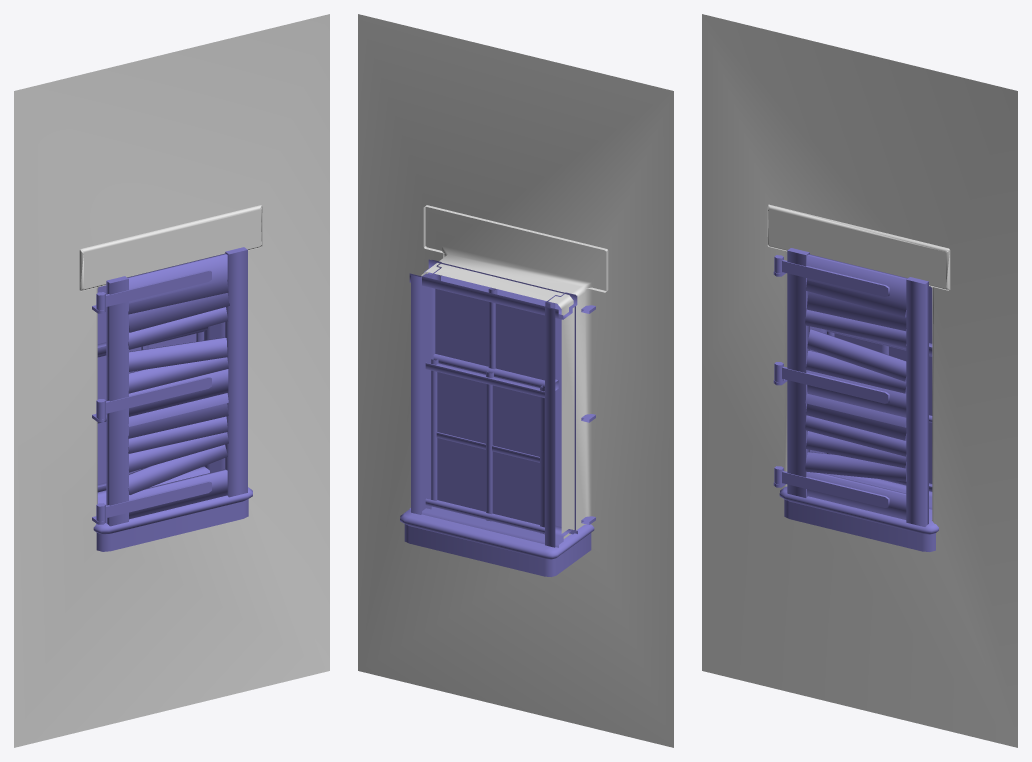
The model's file is window_02_small.fbx.
3 renders of one model, left to right at view 1: azimuth 30°, elevation 25°; view 2: azimuth 150°, elevation 25°; view 3: azimuth 330°, elevation 25°, orthographic.
Parts seen in each view (by area): view 1: Plane.031, Cube.044, Cube.046; view 2: Plane.031, Cube.046; view 3: Plane.031, Cube.044, Cube.046.
Boxes of the visible parts, <box> form: Plane.031: <box>14,14,329,747</box>; Cube.044: <box>96,247,247,526</box>; Cube.046: <box>92,285,252,551</box>; Plane.031: <box>358,14,673,747</box>; Cube.046: <box>400,259,595,576</box>; Plane.031: <box>702,14,1017,747</box>; Cube.044: <box>774,248,928,526</box>; Cube.046: <box>773,271,938,551</box>.
Size of the model in its own units: 2.01 by 4 by 0.5258.
